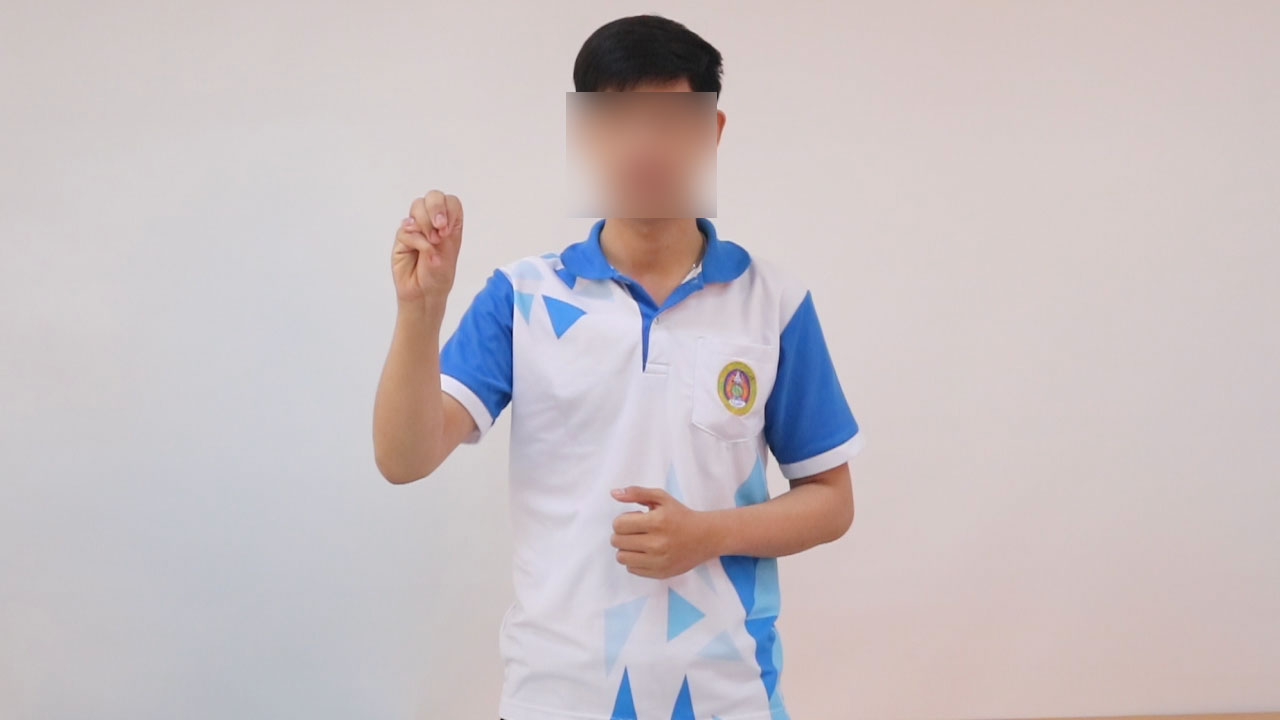mor: (380, 167, 478, 327)
